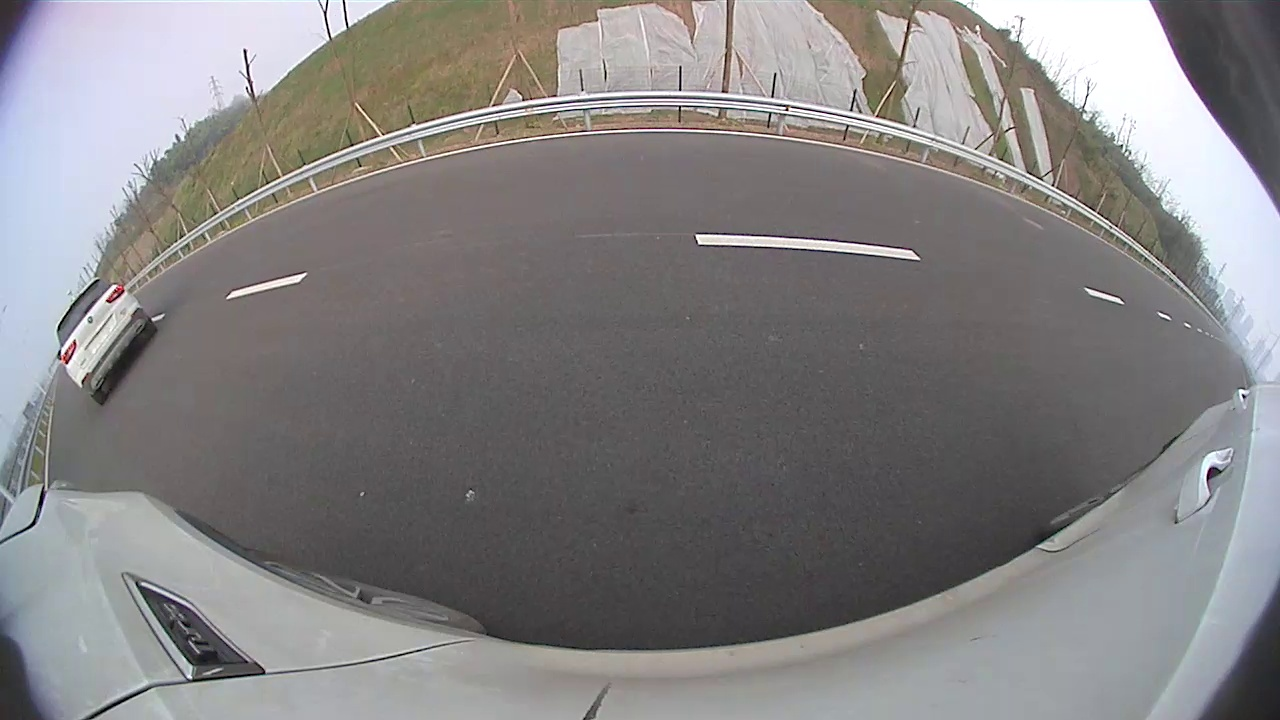car: (405, 118, 587, 247)
front: (573, 175, 588, 209)
rear: (528, 182, 553, 230)
